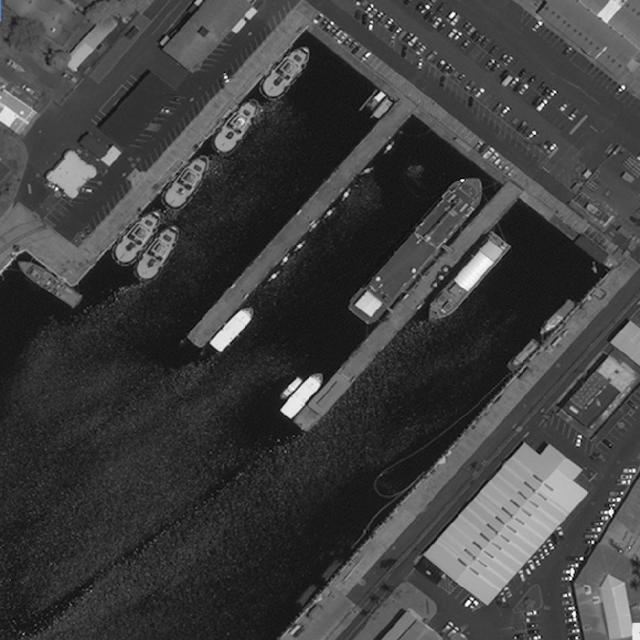Cargo: (343, 166, 493, 330)
Dock: (291, 181, 520, 436), (190, 99, 406, 352)
Hovercraft: (107, 202, 169, 270), (257, 38, 319, 104), (128, 217, 187, 286), (159, 148, 218, 211), (209, 92, 266, 156)
Other Ship: (416, 229, 513, 334), (13, 253, 85, 312), (278, 368, 329, 425), (208, 301, 257, 356), (537, 297, 576, 337), (503, 337, 542, 376), (279, 376, 303, 401)
